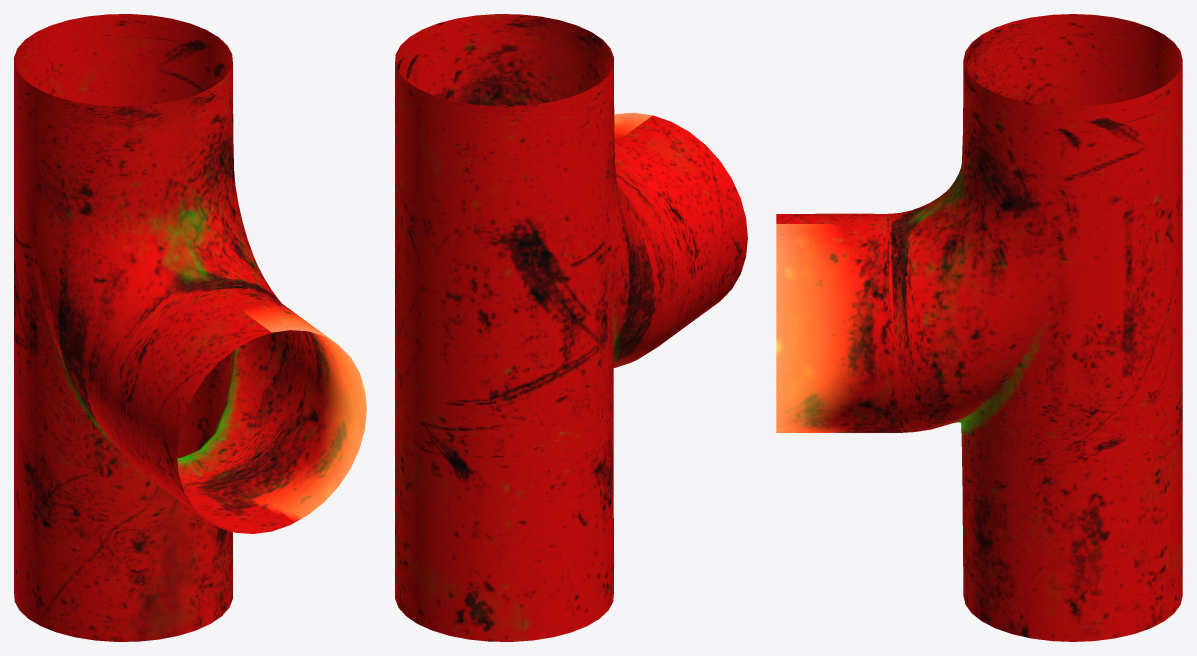
Rendered from SM_IronPipe_branch_02.fbx.
3 renders of one model, left to right at view 1: azimuth 30°, elevation 25°; view 2: azimuth 150°, elevation 25°; view 3: azimuth 270°, elevation 25°, orthographic.
Parts seen in each view (by area): view 1: SM_IronPipe_branch_02_LOD0; view 2: SM_IronPipe_branch_02_LOD0; view 3: SM_IronPipe_branch_02_LOD0.
Boxes of the visible parts, x1,y1,x2,y2 form: SM_IronPipe_branch_02_LOD0: (14, 14, 366, 641); SM_IronPipe_branch_02_LOD0: (395, 14, 747, 641); SM_IronPipe_branch_02_LOD0: (776, 14, 1182, 641).
Size of the model in its own units: 15.13 by 27.53 by 40.
